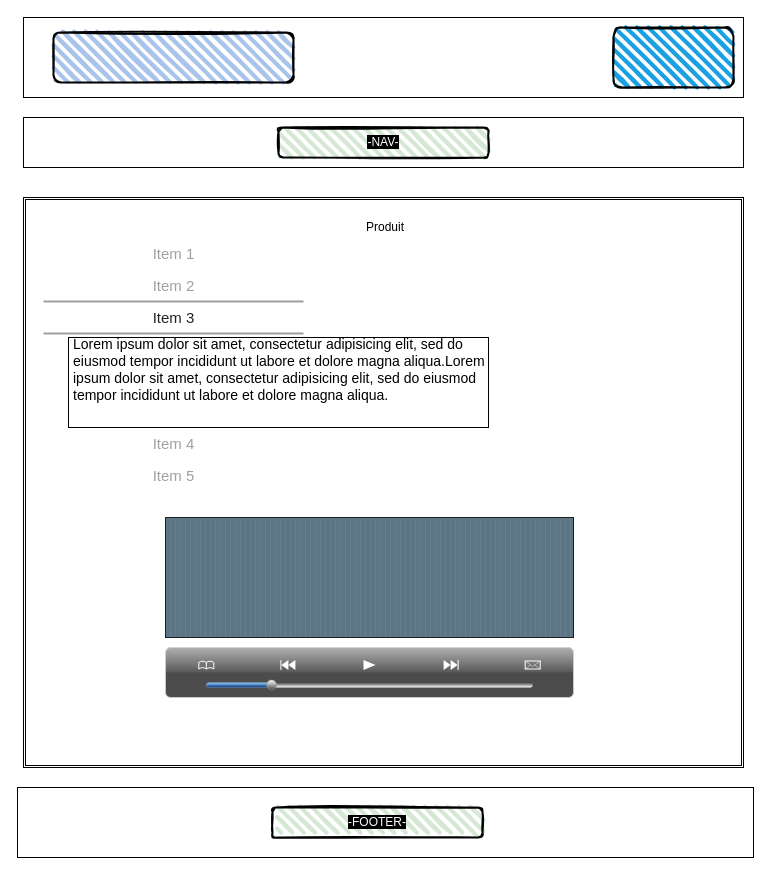
The diagram is 771 pixels wide and 875 high, and some of its shapes have lost their labels. Each missing label, with the centre of its shape:
-LOGO-: the point at 673,57
-NAME-: the point at 173,57
